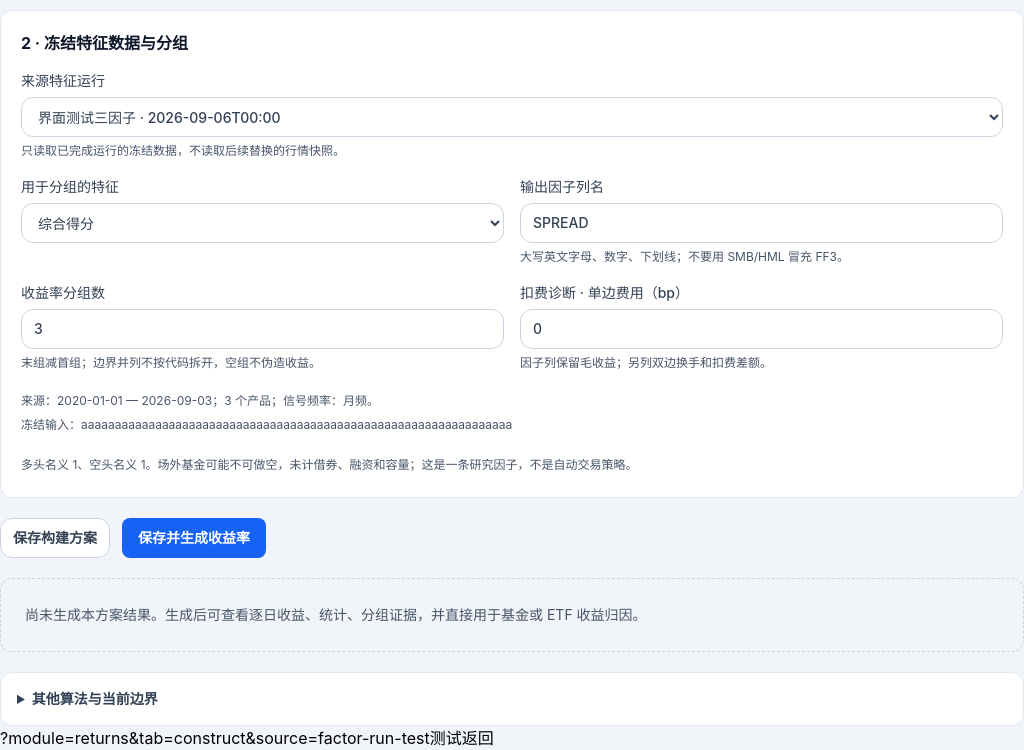
Test case: factor return module › builds from a frozen run and carries the generated dataset into generic attribution
(page scrolled)
Check: the dropdown labelled "来源特征运行" shows "界面测试三因子 · 2026-09-06T00:00", box [21,97,1003,137]
Click the button "保存并生成收益率": (194, 538) [122,518,266,558]
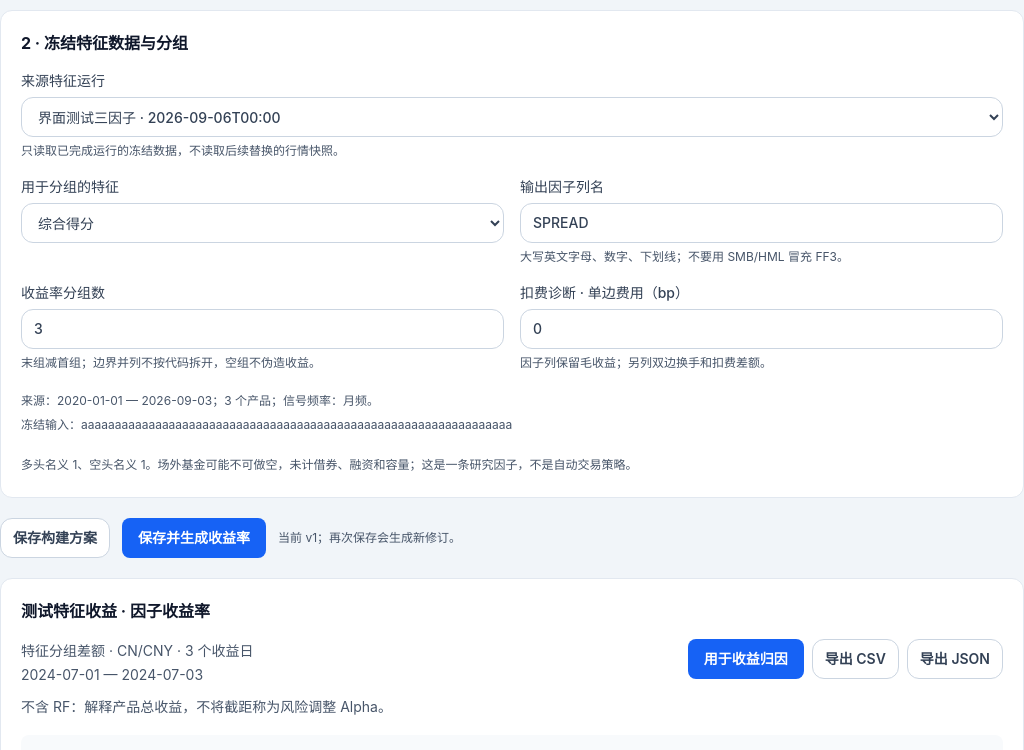
Check: the button "导出 CSV" is enabled, box [812,639,899,679]
Check: the button "用于收益归因" is enabled
Click the button "用于收益归因": (746, 659) [688,639,804,679]
(page scrolled)
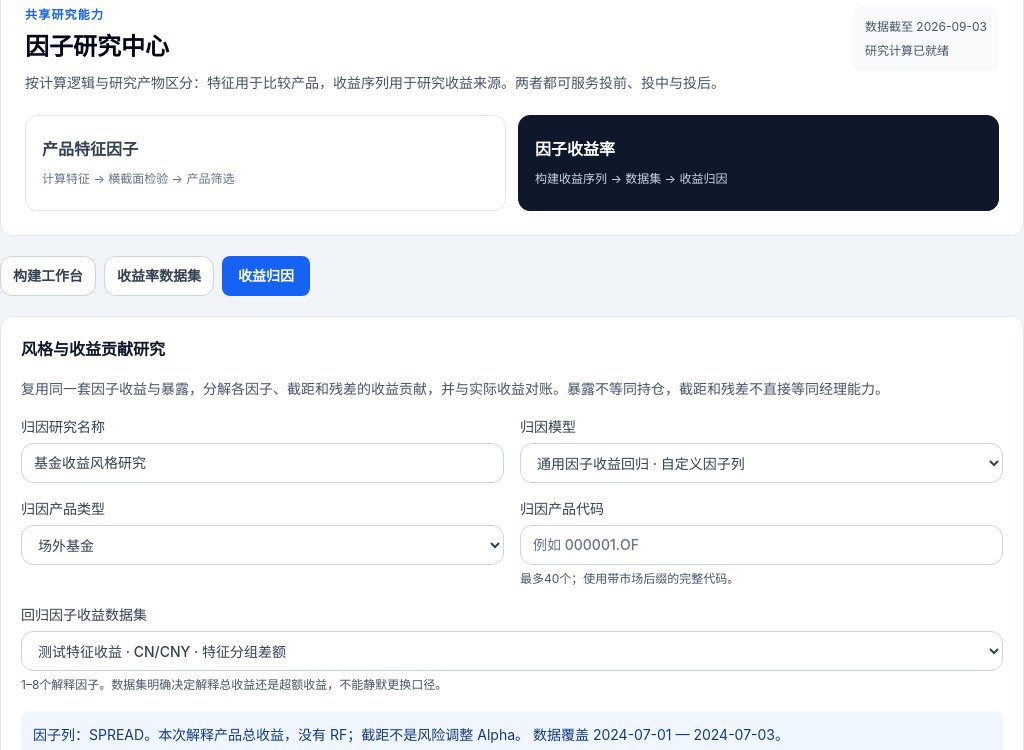
Check: the dropdown labelled "归因模型" shows "通用因子收益回归 · 自定义因子列", box [520,443,1003,483]
Check: the dropdown labelled "回归因子收益数据集" shows "测试特征收益 · CN/CNY · 特征分组差额", box [21,631,1003,671]
In the field labelled "归因产品代码": (762, 545) [520,525,1003,565], type "000001.OF"
(page scrolled)
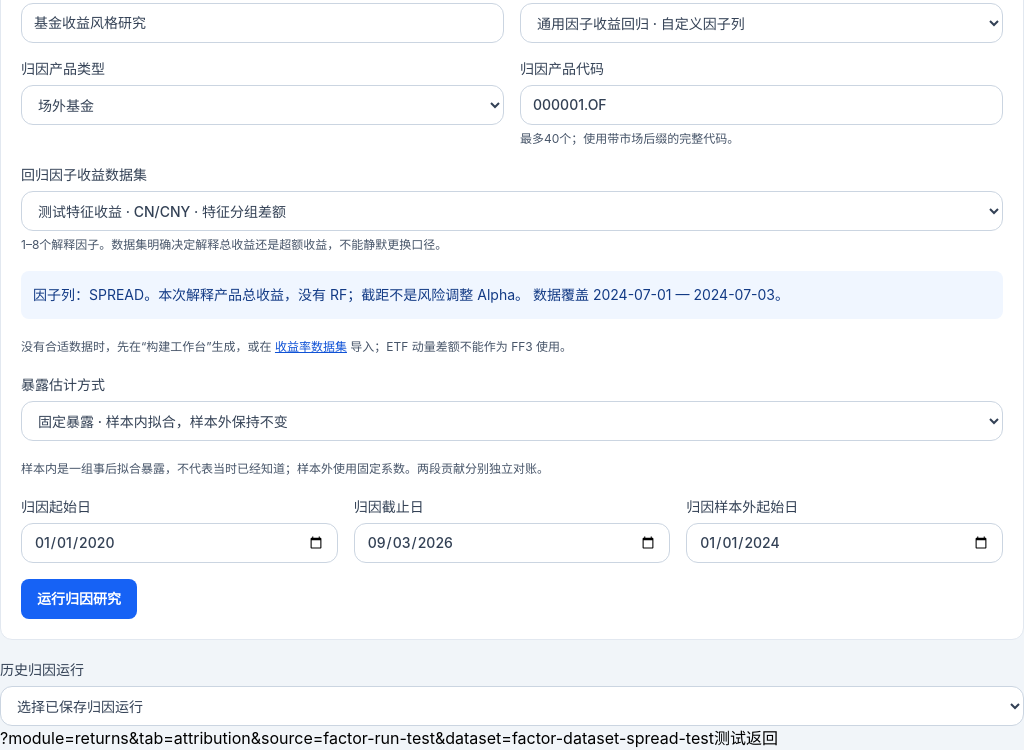
Check: the button "运行归因研究" is enabled
Click the button "运行归因研究": (79, 599) [21,579,137,619]
(page scrolled)
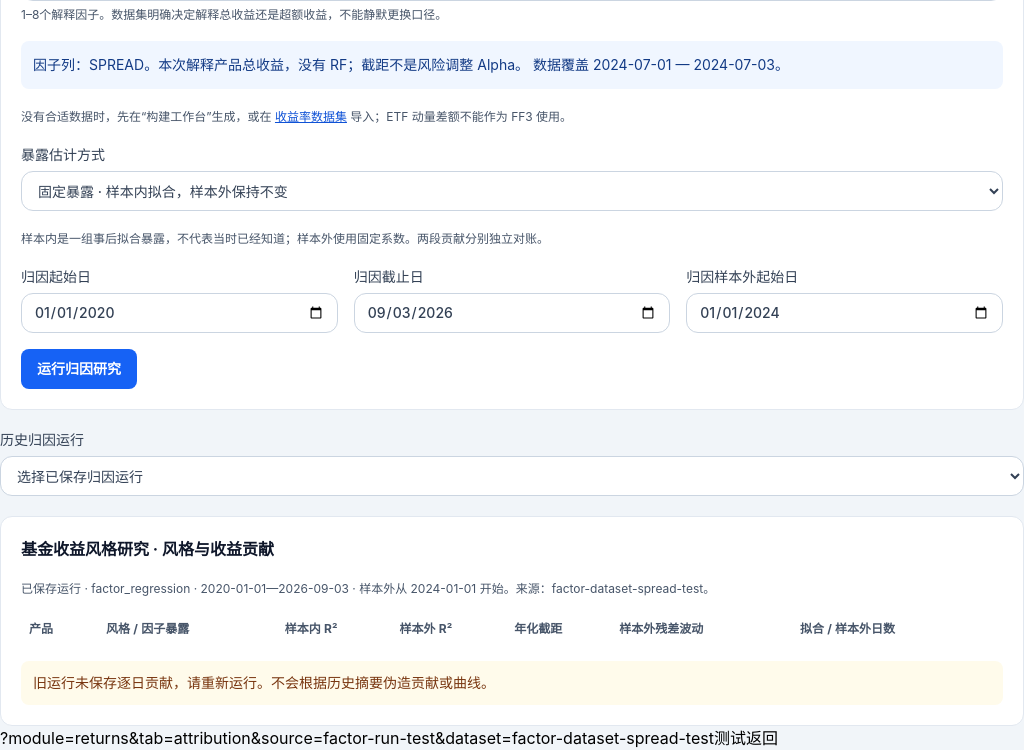
Check: the element named "收益归因结果" is shown, box [0,516,1023,726]
